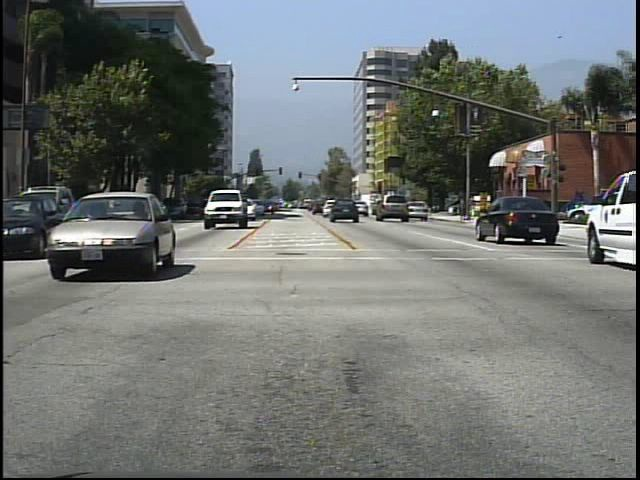person: (508, 192, 528, 231), (467, 192, 480, 222)
